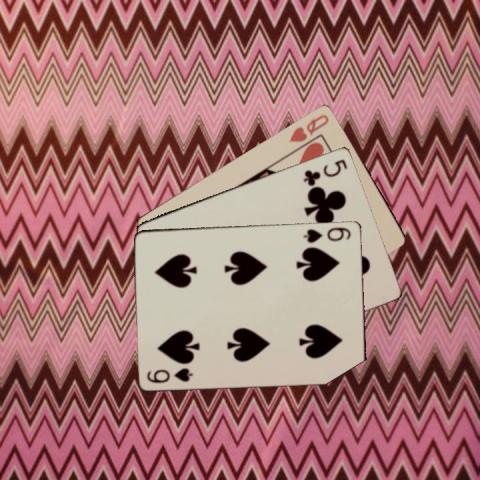5c: (301, 156, 349, 185)
6s: (300, 224, 352, 244), (144, 365, 195, 384)
Qh: (286, 111, 331, 143)
